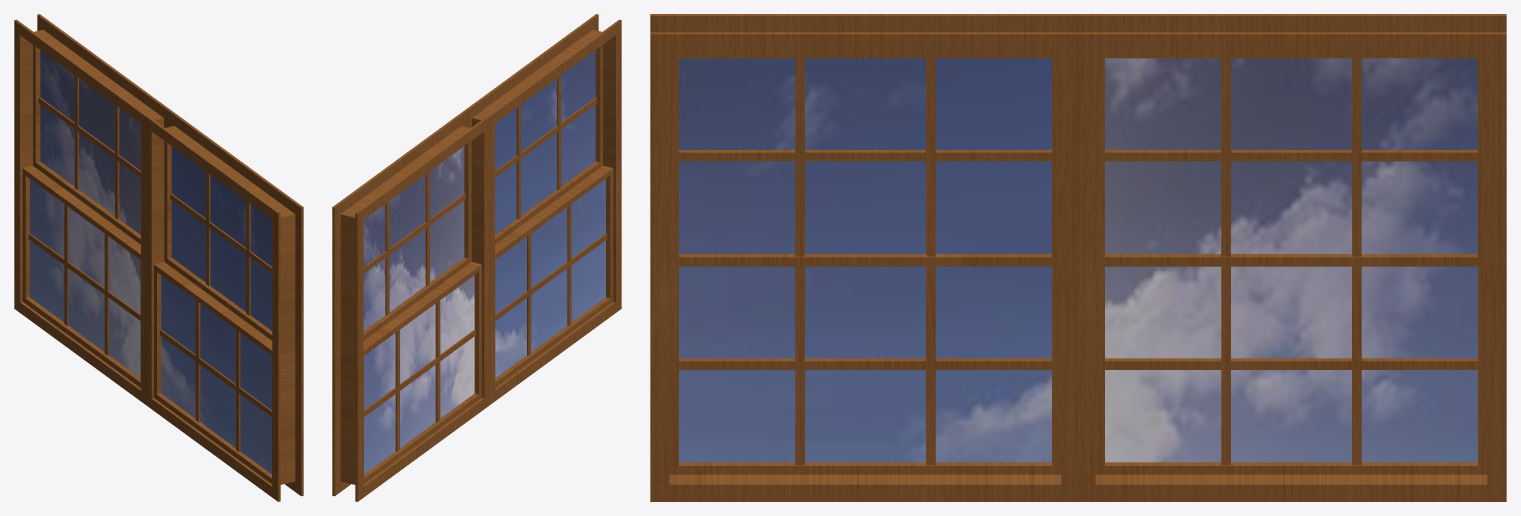
File: windows.FBX
The picture shows the model from 3 angles, left to right: view 1: azimuth 30°, elevation 25°; view 2: azimuth 150°, elevation 25°; view 3: azimuth 270°, elevation 25°; orthographic projection. The views are drawn at different scales.
Parts seen in each view (by area): view 1: window right, window left; view 2: window left, window right; view 3: window left, window right.
Part boxes in pixels (x1=…): window right: x1=145, y1=110, x2=303, y2=501; window left: x1=14, y1=14, x2=170, y2=404; window left: x1=332, y1=110, x2=489, y2=501; window right: x1=464, y1=14, x2=621, y2=405; window left: x1=1076, y1=14, x2=1506, y2=501; window right: x1=650, y1=14, x2=1080, y2=501.
Bounding box in the file's own units: 5 × 54 × 89.58.
Materials: 3 (3 with a texture image).
